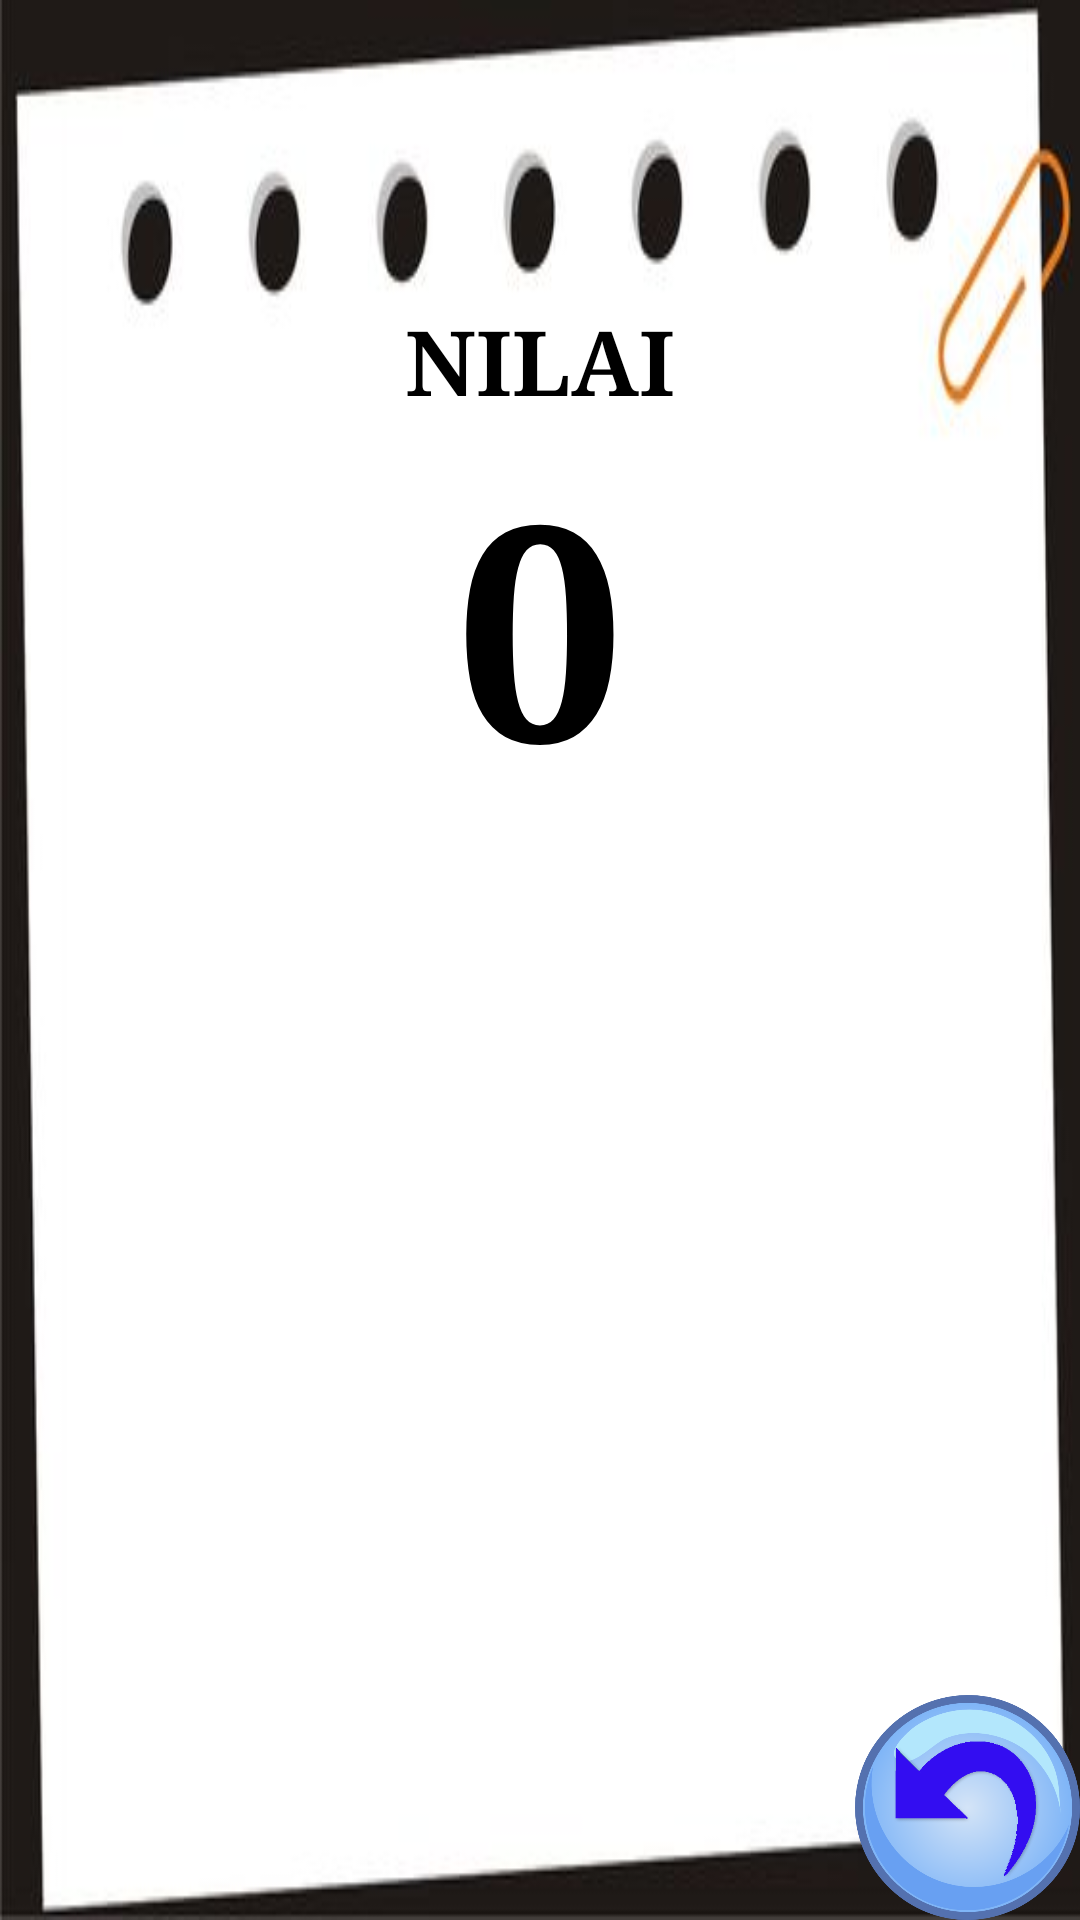

Where to tap for icons on this 1080 × 1920 app screen, as [x,y]:
back: [967,1807]
